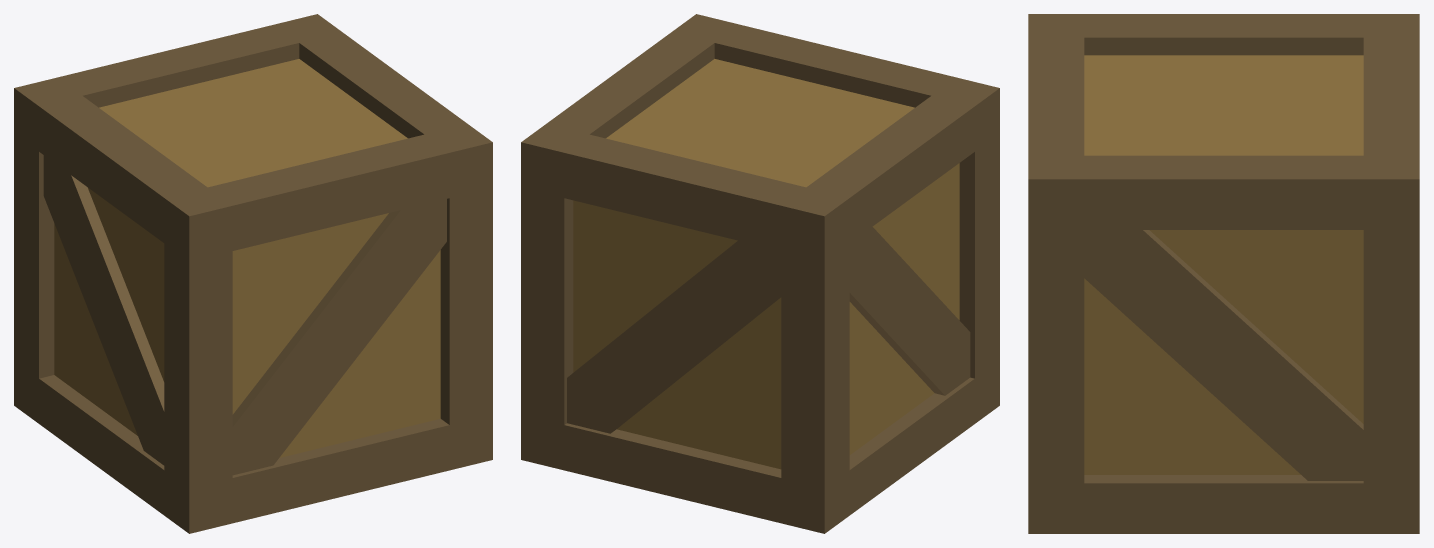
Rendered from crate.glb.
3 renders of one model, left to right at view 1: azimuth 30°, elevation 25°; view 2: azimuth 150°, elevation 25°; view 3: azimuth 270°, elevation 25°, orthographic. The views are drawn at different scales.
Parts seen in each view (by area): view 1: crate; view 2: crate; view 3: crate.
Part boxes in pixels (x1,y1,x2,y2): crate: (14,14,492,533); crate: (521,14,999,533); crate: (1028,14,1419,533).
Bounding box in the file's own units: 0.75 × 0.75 × 0.75.
